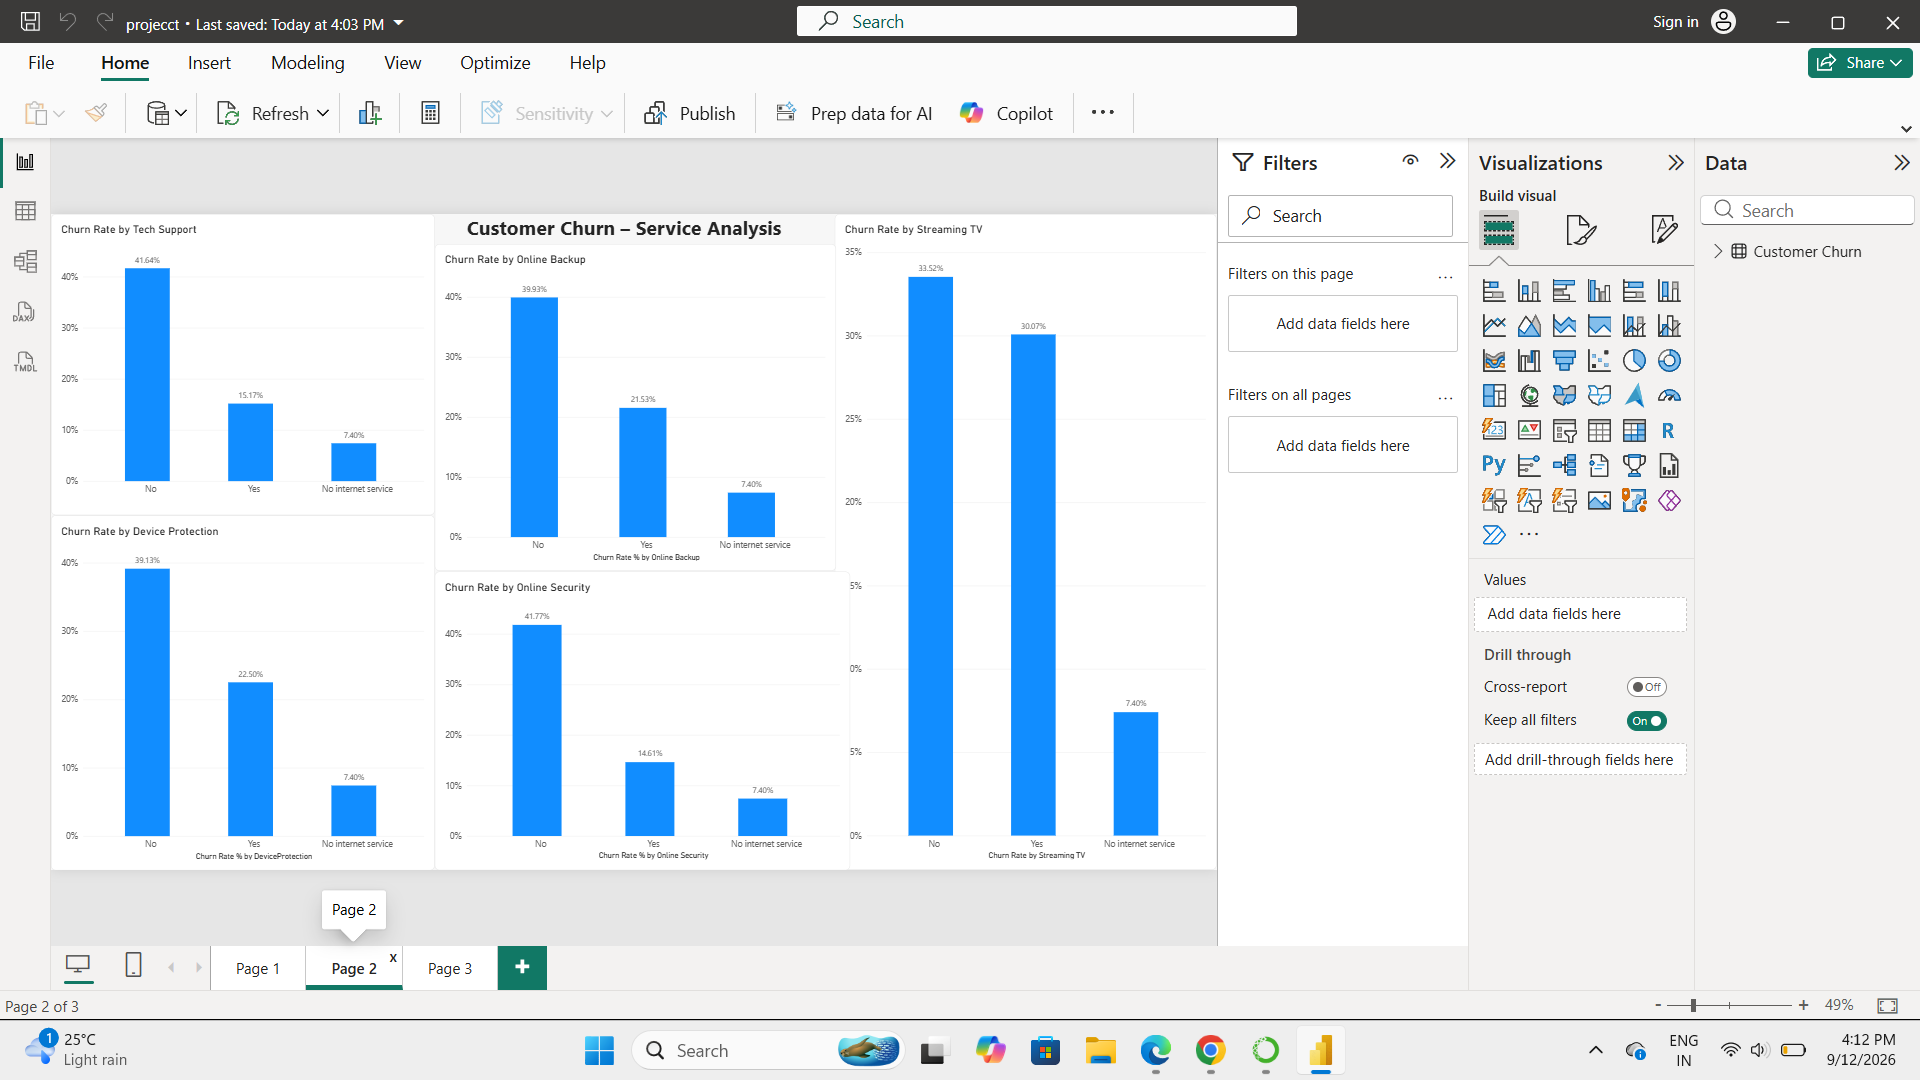

The dashboard page shown, as its layout file describes it:
{"tool":"powerbi","page":{"name":"Page 2","canvas":[1920,1080],"ordinal":1},"visuals":[{"type":"clusteredColumnChart","title":"Churn Rate by Streaming TV","fields":{"Category":["Customer Churn.StreamingTV"],"Y":["Customer Churn.Churn Rate %"]},"box":[1291.4,0,628.6,1079.7],"z":0},{"type":"clusteredColumnChart","title":"Churn Rate by Device Protection","fields":{"Category":["Customer Churn.DeviceProtection"],"Y":["Customer Churn.Churn Rate %"]},"box":[0,496.1,631.9,584.6],"z":1000},{"type":"clusteredColumnChart","title":"Churn Rate by Online Backup","fields":{"Category":["Customer Churn.OnlineBackup"],"Y":["Customer Churn.Churn Rate %"]},"box":[632.9,49.2,660.7,538.8],"z":3000},{"type":"clusteredColumnChart","title":"Churn Rate by Tech Support","fields":{"Category":["Customer Churn.TechSupport"],"Y":["Customer Churn.Churn Rate %"]},"box":[0,0,631.9,496.1],"z":5000},{"type":"clusteredColumnChart","title":"Churn Rate by Online Security","fields":{"Category":["Customer Churn.OnlineSecurity"],"Y":["Customer Churn.Churn Rate %"]},"box":[632.9,588,684.2,491.8],"z":6000},{"type":"textbox","box":[632.9,0,630.7,160.4],"z":6001}]}

Visuals, with their boxes on the page's 1920x1080 design canvas (x1, y1, x2, y2). These are canvas units, not pixel positions in the 1920x1080 screenshot, which may show the page scaled, cropped or inside an application window:
"Churn Rate by Streaming TV" clusteredColumnChart: BBox(1291, 0, 1920, 1080)
"Churn Rate by Device Protection" clusteredColumnChart: BBox(0, 496, 632, 1081)
"Churn Rate by Online Backup" clusteredColumnChart: BBox(633, 49, 1294, 588)
"Churn Rate by Tech Support" clusteredColumnChart: BBox(0, 0, 632, 496)
"Churn Rate by Online Security" clusteredColumnChart: BBox(633, 588, 1317, 1080)
textbox: BBox(633, 0, 1264, 160)
